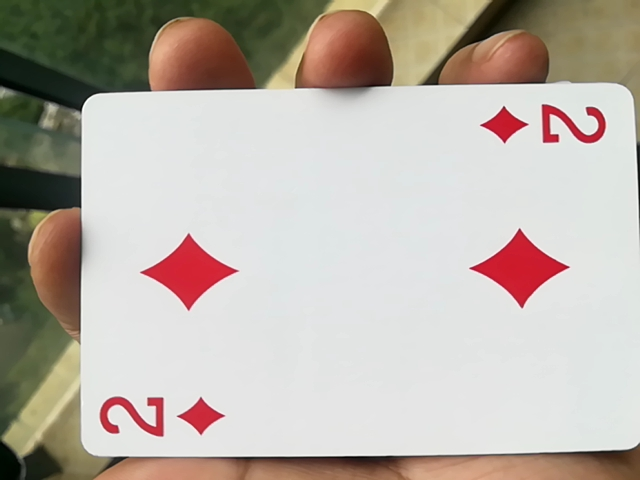fk 2: (63, 90, 634, 471)
